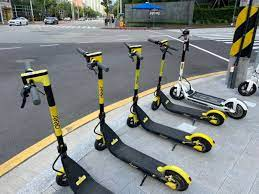kick_handler: (18, 60, 50, 110), (76, 48, 109, 71), (123, 43, 142, 60), (147, 40, 177, 50)
kick_neck: (44, 91, 60, 144), (97, 73, 104, 118), (132, 62, 139, 100)
kick_wheel: (162, 165, 189, 189), (227, 98, 247, 118), (191, 133, 211, 152), (207, 111, 224, 124), (125, 115, 143, 127), (94, 136, 107, 152), (169, 87, 184, 99)
